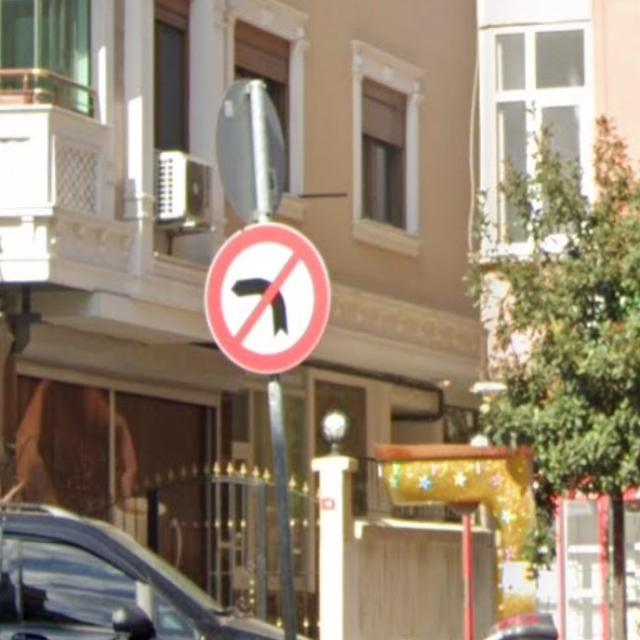soladonulmez: (203, 223, 332, 376)
